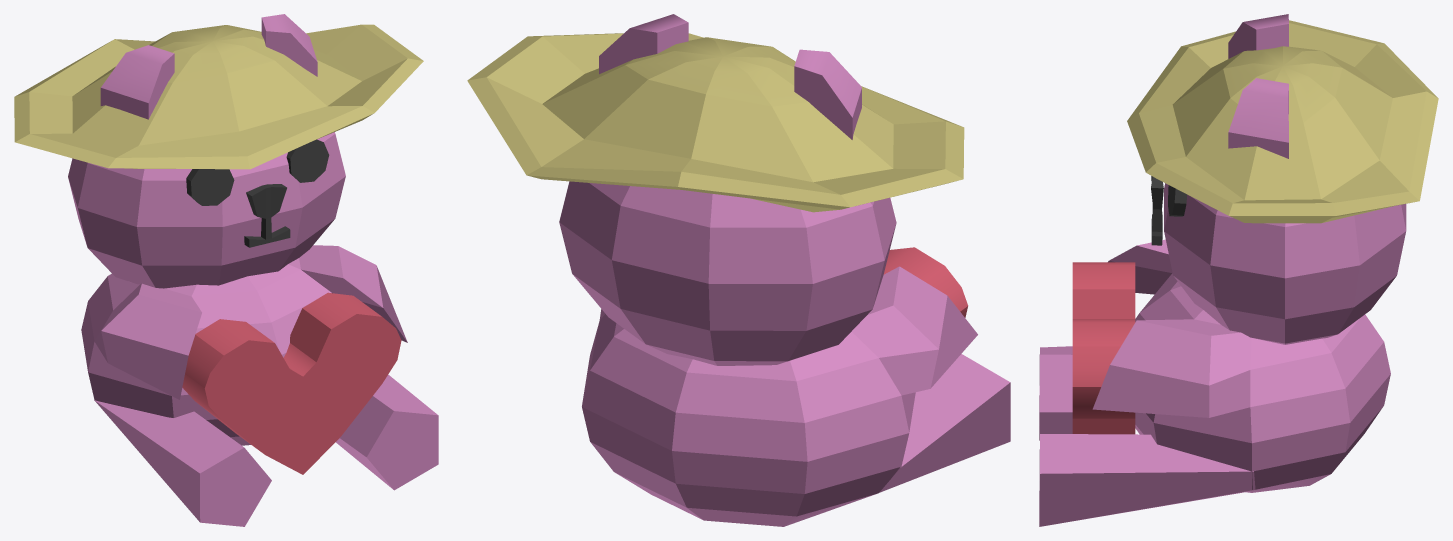
The model's file is Projectile.fbx.
3 renders of one model, left to right at view 1: azimuth 30°, elevation 25°; view 2: azimuth 150°, elevation 25°; view 3: azimuth 270°, elevation 25°, orthographic. The views are drawn at different scales.
Parts seen in each view (by area): view 1: pCylinder5; view 2: pCylinder5; view 3: pCylinder5.
Part boxes in pixels (x1=…): pCylinder5: x1=14, y1=14, x2=438, y2=526; pCylinder5: x1=467, y1=14, x2=1010, y2=526; pCylinder5: x1=1039, y1=14, x2=1438, y2=526.
Bounding box in the file's own units: 400 × 391 × 332.
